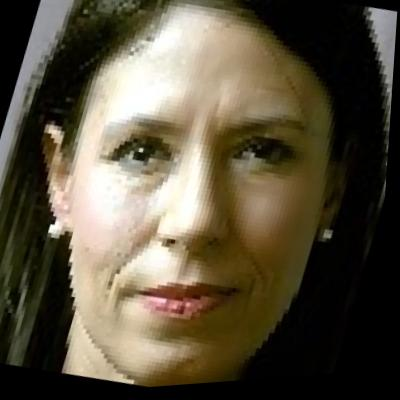sad: (5, 0, 386, 398)
